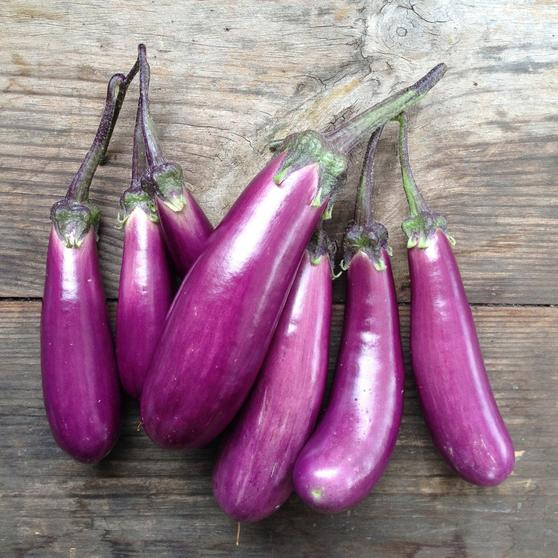eggplant: (148, 133, 344, 455), (398, 230, 527, 488), (295, 230, 407, 504), (35, 194, 126, 476)
